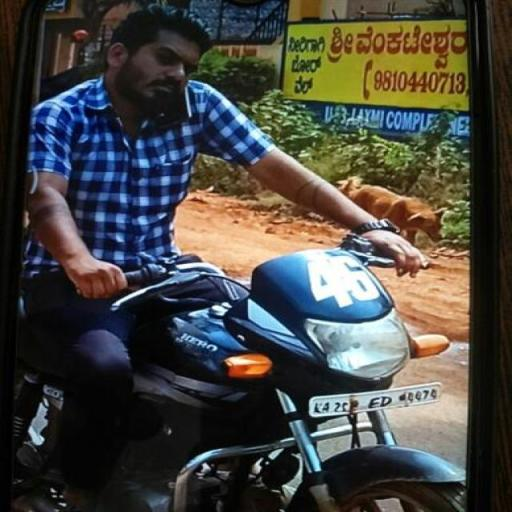using mobile: (170, 65, 204, 131)
